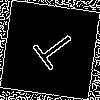T: (25, 25, 80, 77)
